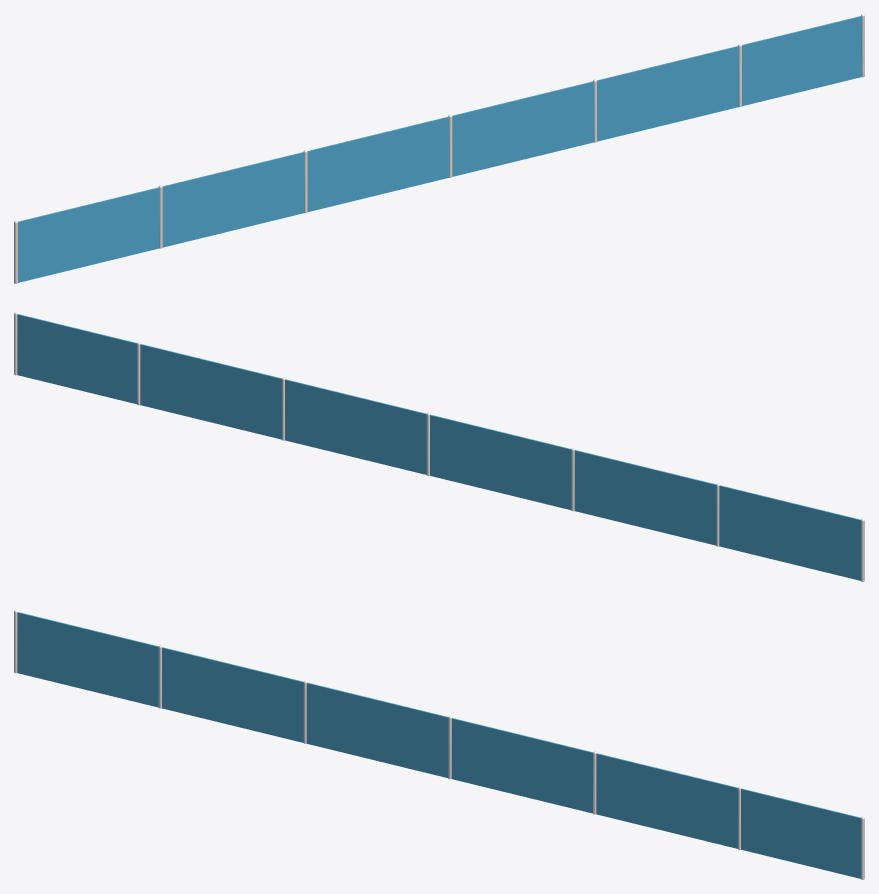
The model's file is railing1.fbx.
3 views of the same model, one above another, from view 1: azimuth 30°, elevation 25°; view 2: azimuth 150°, elevation 25°; view 3: azimuth 330°, elevation 25° (orthographic).
Visible parts, largest first — view 1: Railing_1; view 2: Railing_1; view 3: Railing_1.
Boxes of the visible parts, box(x1,y1,x2,y2) form: Railing_1: box(14, 14, 864, 283); Railing_1: box(14, 312, 864, 581); Railing_1: box(14, 610, 864, 879).
Size of the model in its own units: 2936 by 205 by 12.
